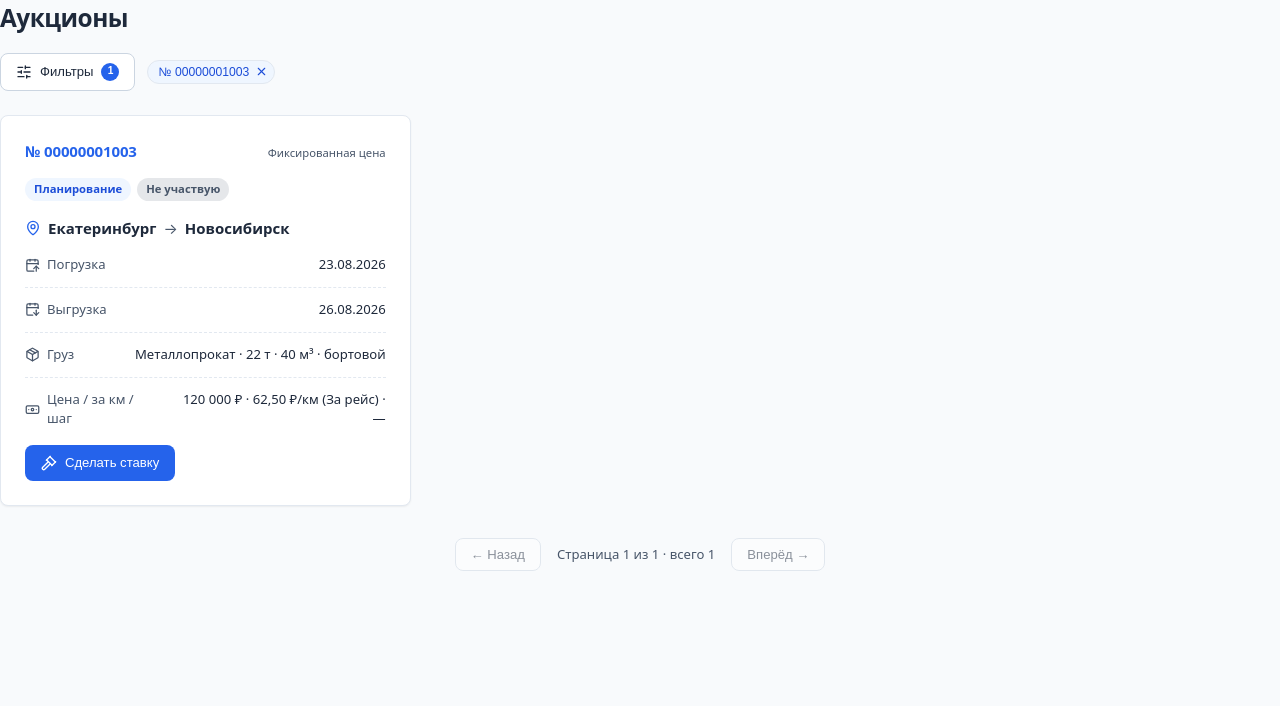
Test: auctions list — filters and pagination › restores filters from the URL (shown in the filters drawer)
expect the element with test id "auctions-list" is shown: met, box [0, 115, 411, 506]
Click the button with test id "filters-open" at (68, 72), box [0, 53, 136, 91]
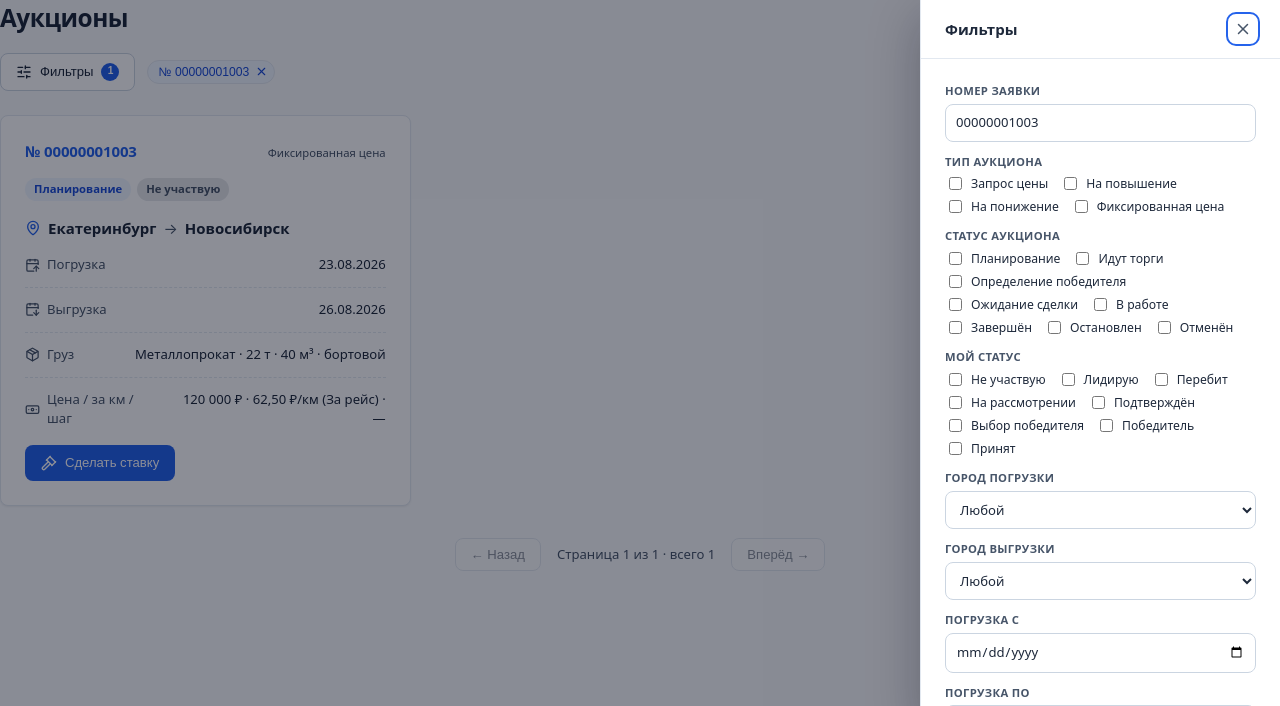
expect the field with placeholder "00000001001" holds "00000001003": met, box [945, 104, 1256, 142]
